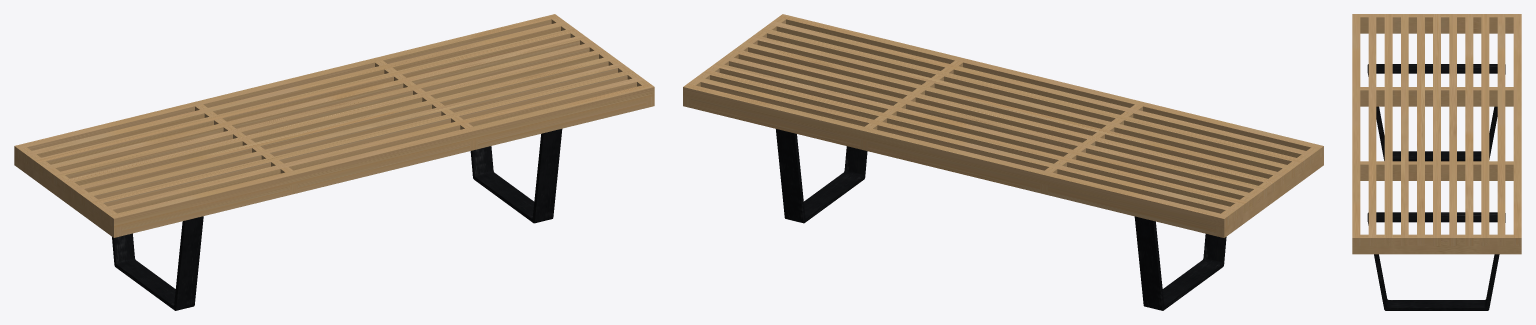
Rendered from bench2.fbx.
The picture shows the model from 3 angles, left to right: view 1: azimuth 30°, elevation 25°; view 2: azimuth 150°, elevation 25°; view 3: azimuth 270°, elevation 25°; orthographic projection. The views are drawn at different scales.
Visible parts, largest first — view 1: Bench2; view 2: Bench2; view 3: Bench2.
Boxes of the visible parts, x1,y1,x2,y2 form: Bench2: (14,14,654,310); Bench2: (683,14,1323,310); Bench2: (1352,14,1521,310).
Size of the model in its own units: 201 by 44.76 by 63.98.
